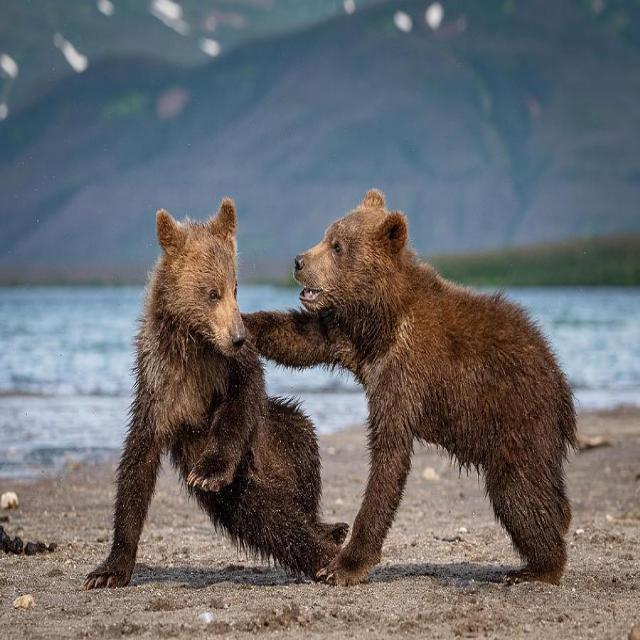Bear: (242, 191, 586, 588), (82, 198, 342, 590)
